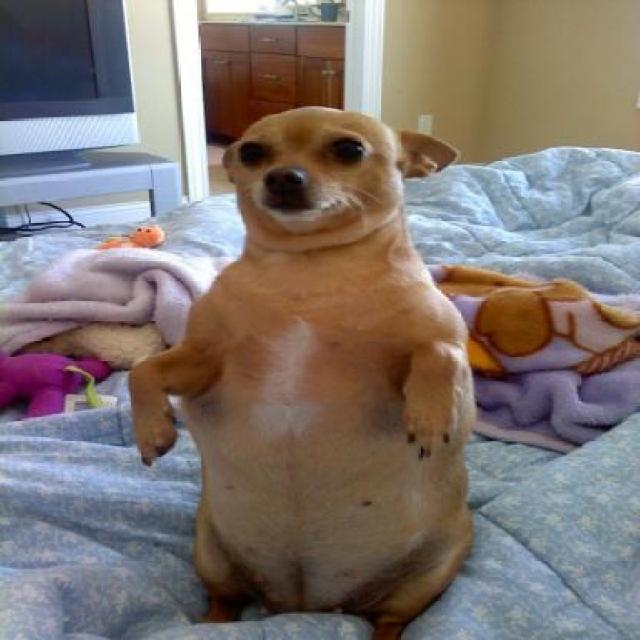Dog: (129, 106, 491, 639)
